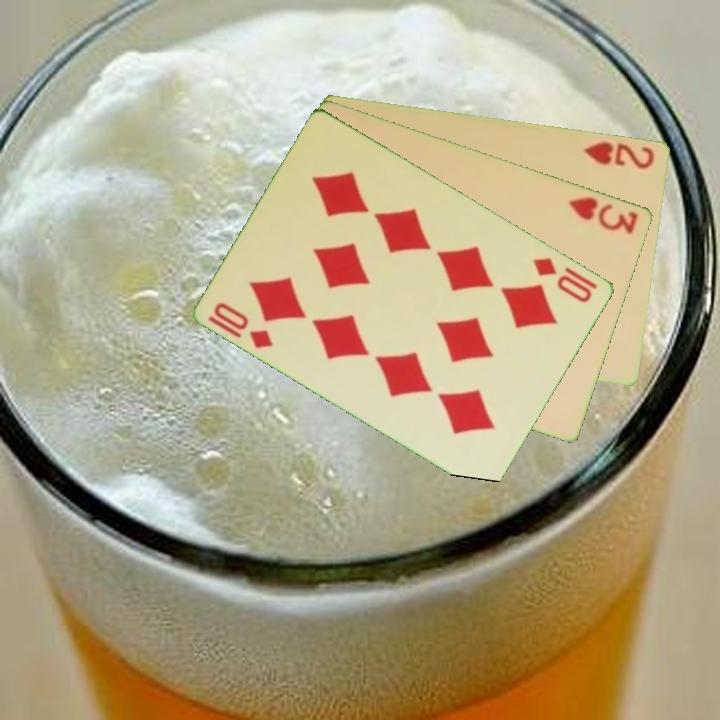10d: (205, 298, 278, 352), (530, 253, 601, 306)
2h: (580, 137, 658, 172)
3h: (565, 193, 642, 237)
